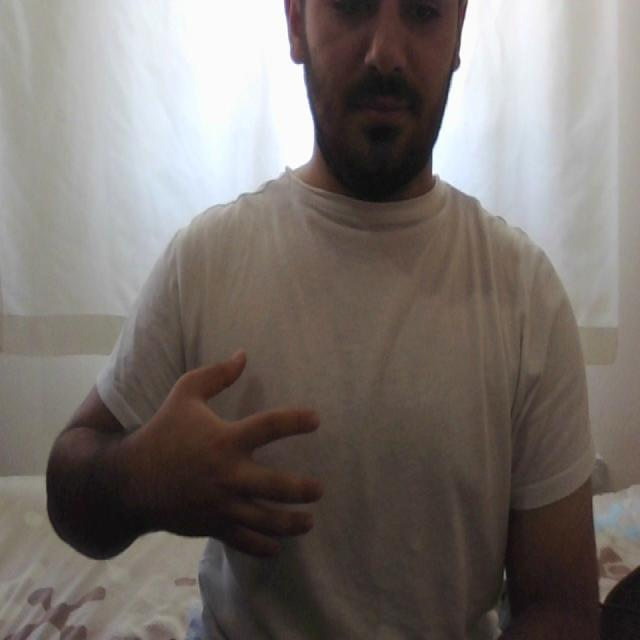Anne: (135, 338, 338, 570)
